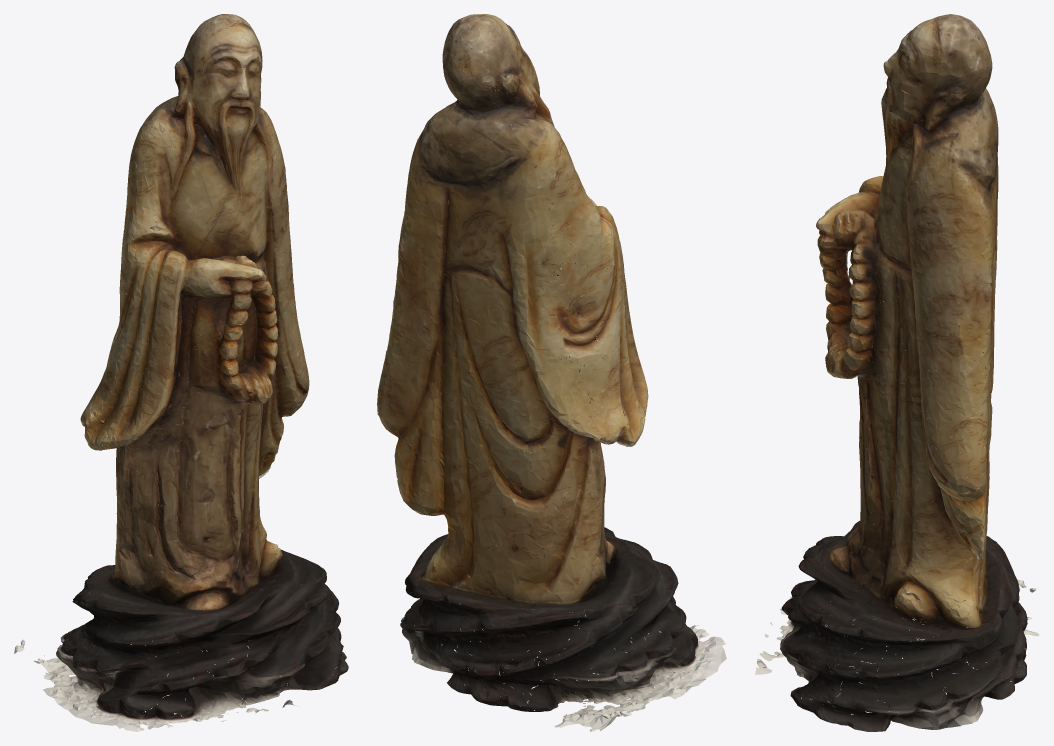
The model's file is emperor.glb.
The picture shows the model from 3 angles, left to right: view 1: azimuth 30°, elevation 25°; view 2: azimuth 150°, elevation 25°; view 3: azimuth 270°, elevation 25°; orthographic projection. The views are drawn at different scales.
Visible parts, largest first — view 1: emperor (×8); view 2: emperor (×8); view 3: emperor (×8).
Part boxes in pixels (left/top/right/bottom): emperor (×8): left=14, top=14, right=348, bottom=731; emperor (×8): left=377, top=14, right=726, bottom=731; emperor (×8): left=755, top=14, right=1039, bottom=731.
Size of the model in its own units: 1.77 by 3.83 by 1.45.
Materials: 1 (1 with a texture image).
